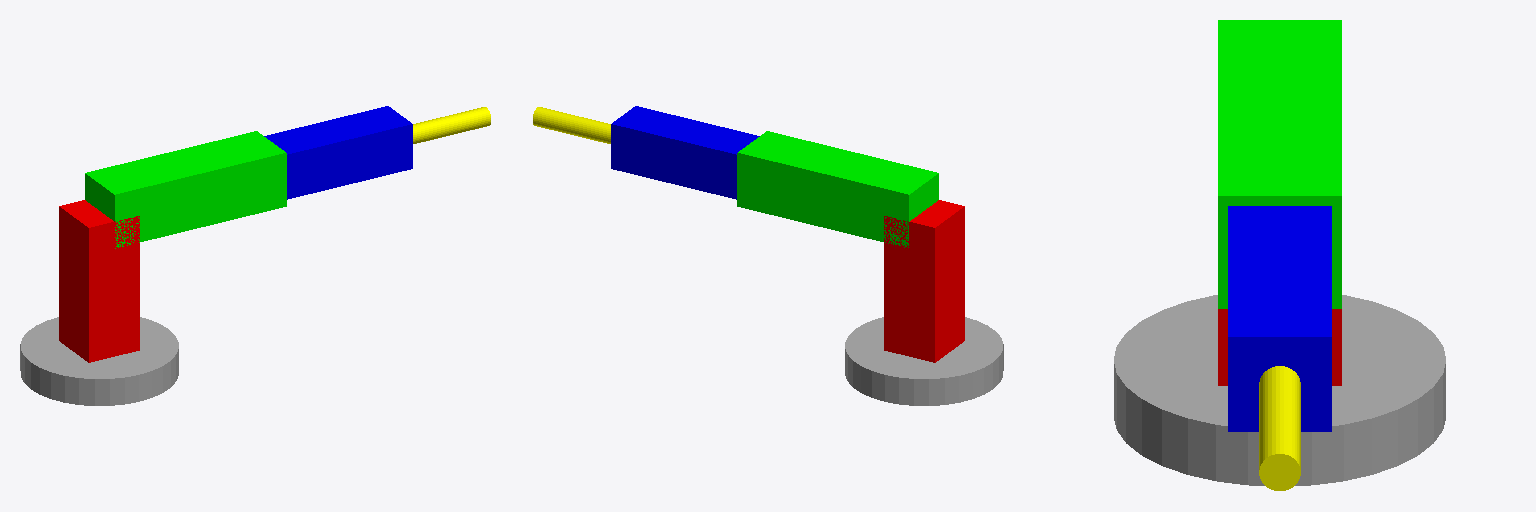
robot.urdf — writing_arm:
<?xml version="1.0"?>
<robot name="writing_arm">
  
  <!-- Base Link - BIGGER and more visible -->
  <link name="base_link">
    <visual>
      <origin xyz="0 0 0.015" rpy="0 0 0"/>
      <geometry>
        <cylinder radius="0.08" length="0.03"/>
      </geometry>
      <material name="gray">
        <color rgba="0.7 0.7 0.7 1"/>
      </material>
    </visual>
    <inertial>
      <mass value="0.1"/>
      <inertia ixx="0.001" ixy="0.0" ixz="0.0" iyy="0.001" iyz="0.0" izz="0.001"/>
    </inertial>
  </link>

  <!-- Joint 1: Base rotation -->
  <joint name="joint_1" type="revolute">
    <parent link="base_link"/>
    <child link="link_1"/>
    <origin xyz="0 0 0.03" rpy="0 0 0"/>
    <axis xyz="0 0 1"/>
    <limit lower="-3.14159" upper="3.14159" effort="1.0" velocity="2.0"/>
    <dynamics damping="0.1" friction="0.1"/>
  </joint>

  <!-- Link 1 - VERY visible red box -->
  <link name="link_1">
    <visual>
      <origin xyz="0 0 0.075" rpy="0 0 0"/>
      <geometry>
        <box size="0.06 0.06 0.15"/>
      </geometry>
      <material name="red">
        <color rgba="1.0 0.0 0.0 1"/>
      </material>
    </visual>
    <inertial>
      <mass value="0.1"/>
      <inertia ixx="0.001" ixy="0.0" ixz="0.0" iyy="0.001" iyz="0.0" izz="0.001"/>
    </inertial>
  </link>

  <!-- Joint 2: Shoulder -->
  <joint name="joint_2" type="revolute">
    <parent link="link_1"/>
    <child link="link_2"/>
    <origin xyz="0 0 0.15" rpy="0 0 0"/>
    <axis xyz="0 1 0"/>
    <limit lower="-1.57" upper="1.57" effort="1.0" velocity="2.0"/>
    <dynamics damping="0.1" friction="0.1"/>
  </joint>

  <!-- Link 2 - VERY visible green box -->
  <link name="link_2">
    <visual>
      <origin xyz="0.1 0 0" rpy="0 1.57 0"/>
      <geometry>
        <box size="0.06 0.06 0.20"/>
      </geometry>
      <material name="green">
        <color rgba="0.0 1.0 0.0 1"/>
      </material>
    </visual>
    <inertial>
      <mass value="0.1"/>
      <inertia ixx="0.001" ixy="0.0" ixz="0.0" iyy="0.001" iyz="0.0" izz="0.001"/>
    </inertial>
  </link>

  <!-- Joint 3: Elbow -->
  <joint name="joint_3" type="revolute">
    <parent link="link_2"/>
    <child link="link_3"/>
    <origin xyz="0.20 0 0" rpy="0 0 0"/>
    <axis xyz="0 1 0"/>
    <limit lower="-1.57" upper="1.57" effort="1.0" velocity="2.0"/>
    <dynamics damping="0.1" friction="0.1"/>
  </joint>

  <!-- Link 3 - VERY visible blue box -->
  <link name="link_3">
    <visual>
      <origin xyz="0.075 0 0" rpy="0 1.57 0"/>
      <geometry>
        <box size="0.05 0.05 0.15"/>
      </geometry>
      <material name="blue">
        <color rgba="0.0 0.0 1.0 1"/>
      </material>
    </visual>
    <inertial>
      <mass value="0.1"/>
      <inertia ixx="0.001" ixy="0.0" ixz="0.0" iyy="0.001" iyz="0.0" izz="0.001"/>
    </inertial>
  </link>

  <!-- Joint 4: Wrist -->
  <joint name="joint_4" type="revolute">
    <parent link="link_3"/>
    <child link="pen_link"/>
    <origin xyz="0.15 0 0" rpy="0 0 0"/>
    <axis xyz="0 1 0"/>
    <limit lower="-1.57" upper="1.57" effort="1.0" velocity="2.0"/>
    <dynamics damping="0.1" friction="0.1"/>
  </joint>

  <!-- Pen Link - VERY visible yellow cylinder -->
  <link name="pen_link">
    <visual>
      <origin xyz="0.05 0 0" rpy="0 1.57 0"/>
      <geometry>
        <cylinder radius="0.01" length="0.10"/>
      </geometry>
      <material name="yellow">
        <color rgba="1.0 1.0 0.0 1"/>
      </material>
    </visual>
    <inertial>
      <mass value="0.05"/>
      <inertia ixx="0.0001" ixy="0.0" ixz="0.0" iyy="0.0001" iyz="0.0" izz="0.0001"/>
    </inertial>
  </link>

  <!-- Pen Tip -->
  <link name="pen_tip"/>
  <joint name="pen_tip_joint" type="fixed">
    <parent link="pen_link"/>
    <child link="pen_tip"/>
    <origin xyz="0.10 0 0" rpy="0 0 0"/>
  </joint>

  <!-- ========================================= -->
  <!-- ROS2_CONTROL - For simulation and hardware -->
  <!-- ========================================= -->
  
  <ros2_control name="writing_arm_system" type="system">
    
    <!-- For simulation, use mock hardware -->
    <hardware>
      <plugin>mock_components/GenericSystem</plugin>
    </hardware>
    
    <!-- Joint 1 -->
    <joint name="joint_1">
      <command_interface name="position">
        <param name="min">-3.14159</param>
        <param name="max">3.14159</param>
      </command_interface>
      <state_interface name="position">
	<param name="initial_value">0.0</param>
      </state_interface>
      <state_interface name="position"/>
      <state_interface name="velocity"/>
    </joint>
    
    <!-- Joint 2 -->
    <joint name="joint_2">
      <command_interface name="position">
        <param name="min">-1.57</param>
        <param name="max">1.57</param>
      </command_interface>
      <state_interface name="position">
	<param name="initial_value">-1.57</param>
      </state_interface>
      <state_interface name="position"/>
      <state_interface name="velocity"/>
    </joint>
    
    <!-- Joint 3 -->
    <joint name="joint_3">
      <command_interface name="position">
        <param name="min">-1.57</param>
        <param name="max">1.57</param>
      </command_interface>
      <state_interface name="position">
	<param name="initial_value">1.57</param>
      </state_interface>
      <state_interface name="position"/>
      <state_interface name="velocity"/>
    </joint>
    
    <!-- Joint 4 -->
    <joint name="joint_4">
      <command_interface name="position">
        <param name="min">-1.57</param>
        <param name="max">1.57</param>
      </command_interface>
      <state_interface name="position">
	<param name="initial_value">0.0</param>
      </state_interface>
      <state_interface name="position"/>
      <state_interface name="velocity"/>
    </joint>
    
  </ros2_control>

</robot>

--- What the picture shows (computed from the rendered views, not written in the file) ---
3 views of the same robot in one strip: view 1: azimuth 30°, elevation 25°; view 2: azimuth 150°, elevation 25°; view 3: azimuth 270°, elevation 25° (orthographic).
Robot: writing_arm — 6 links, 5 joints (4 revolute, 1 fixed); root link base_link; default pose: every joint at zero.
Links seen in each view (by area): view 1: link_2, link_1, base_link, link_3, pen_link; view 2: link_2, link_1, base_link, link_3, pen_link; view 3: base_link, link_2, link_3, pen_link, link_1.
Link boxes in pixels (left/top/right/bottom): link_2: left=85, top=131, right=286, bottom=248; link_1: left=59, top=200, right=139, bottom=362; base_link: left=20, top=317, right=178, bottom=405; link_3: left=264, top=106, right=412, bottom=199; pen_link: left=413, top=107, right=490, bottom=143; link_2: left=737, top=131, right=938, bottom=247; link_1: left=884, top=200, right=964, bottom=362; base_link: left=845, top=317, right=1003, bottom=405; link_3: left=611, top=106, right=759, bottom=199; pen_link: left=533, top=107, right=610, bottom=143; base_link: left=1114, top=295, right=1445, bottom=485; link_2: left=1218, top=20, right=1341, bottom=308; link_3: left=1228, top=206, right=1331, bottom=431; pen_link: left=1259, top=366, right=1300, bottom=490; link_1: left=1218, top=309, right=1341, bottom=385.
Size in the robot's own frame: 0.53 by 0.16 by 0.2101 metres.
Geometry: primitives only (box / cylinder / sphere), no mesh files.